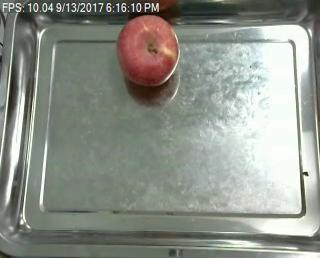apple: (116, 14, 180, 86)
